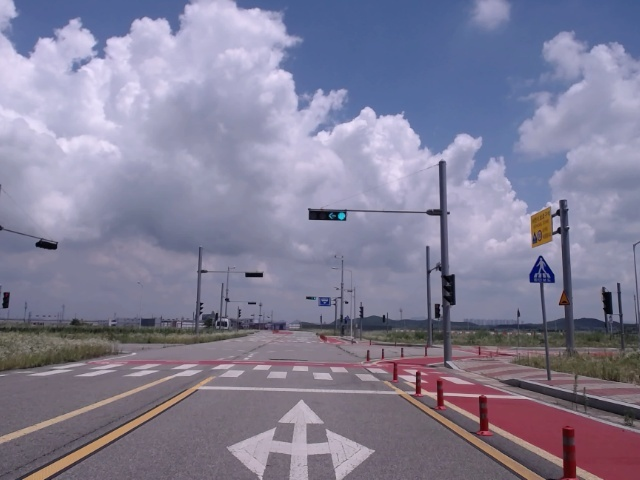all_green_4: (305, 208, 347, 222)
